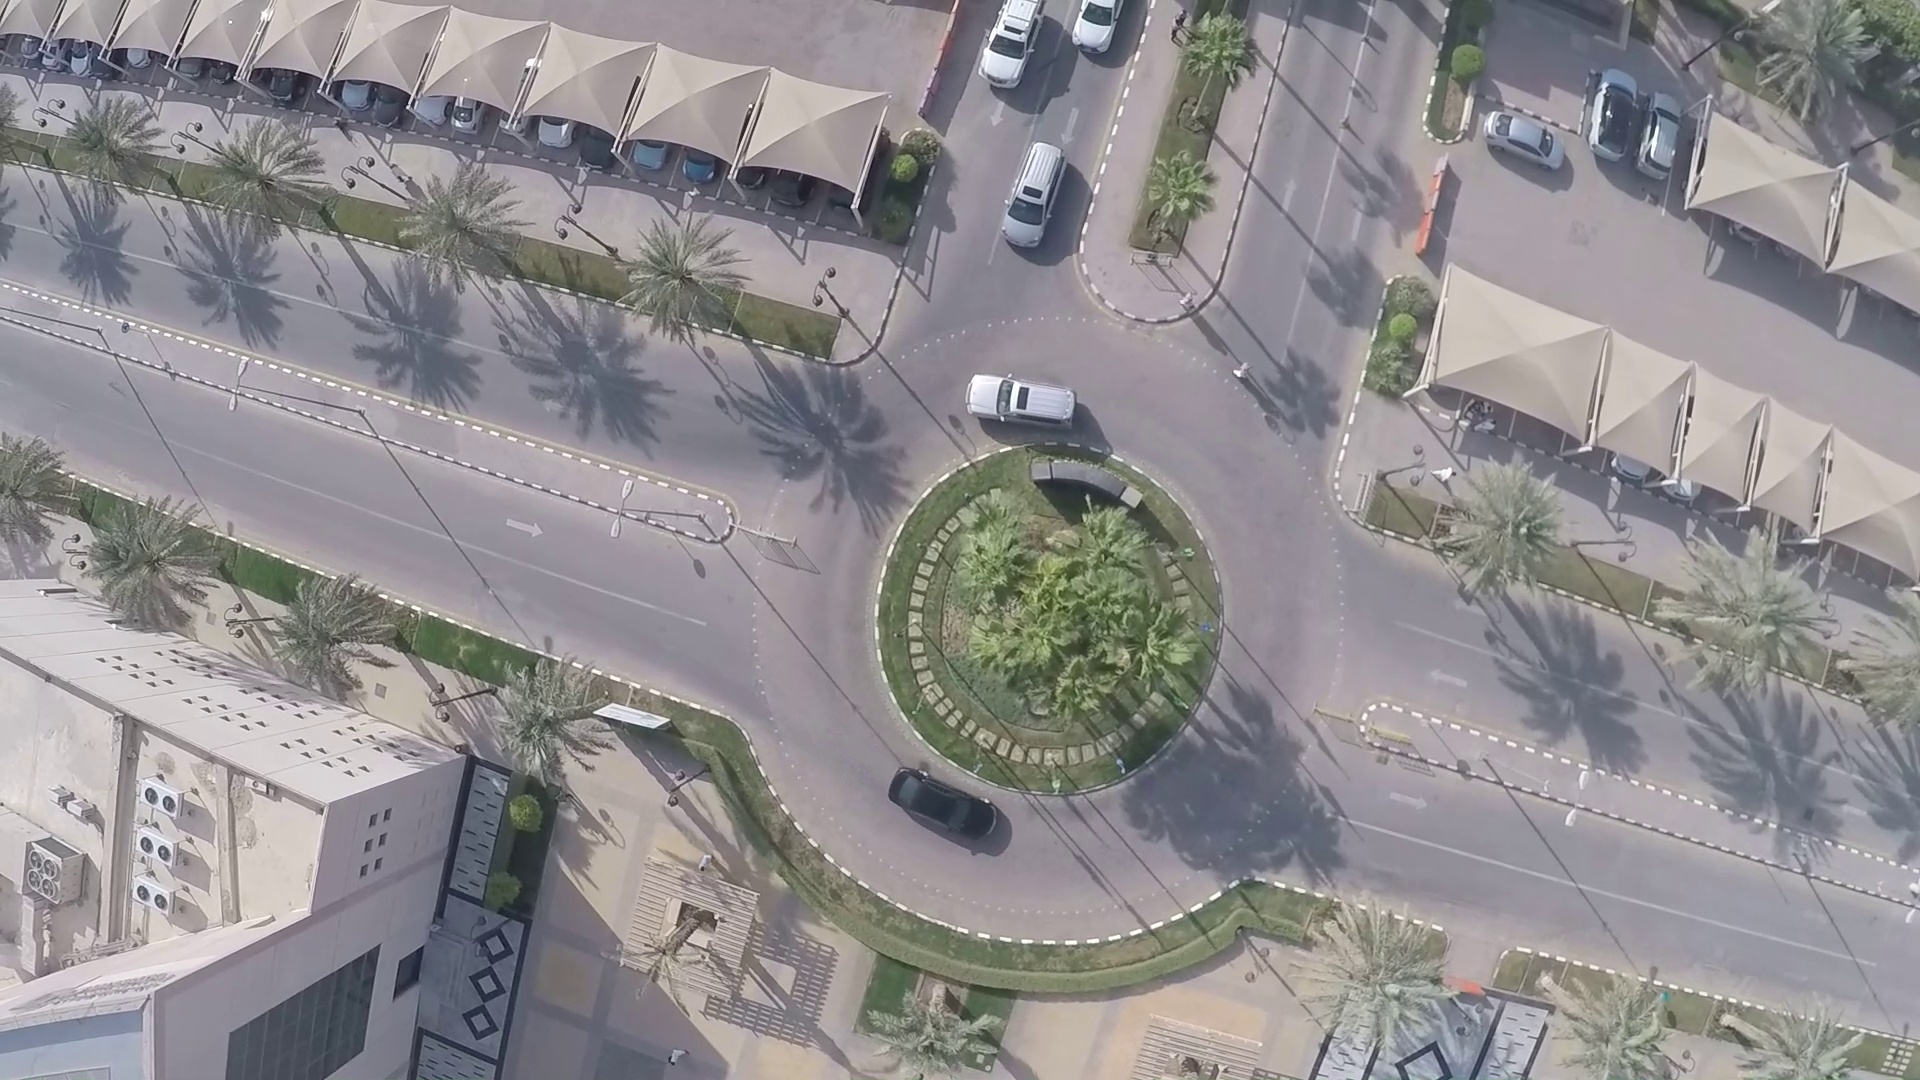car: (891, 760, 1011, 843), (1000, 129, 1055, 266), (963, 373, 1097, 429), (992, 1, 1033, 88), (1076, 1, 1118, 57)
